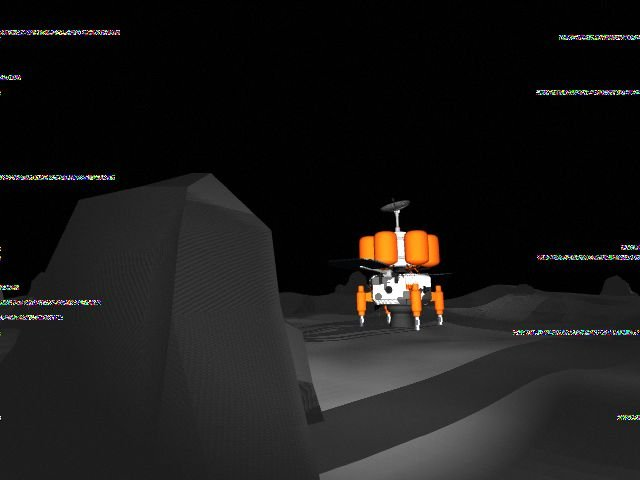homebase: (351, 195, 450, 340)
